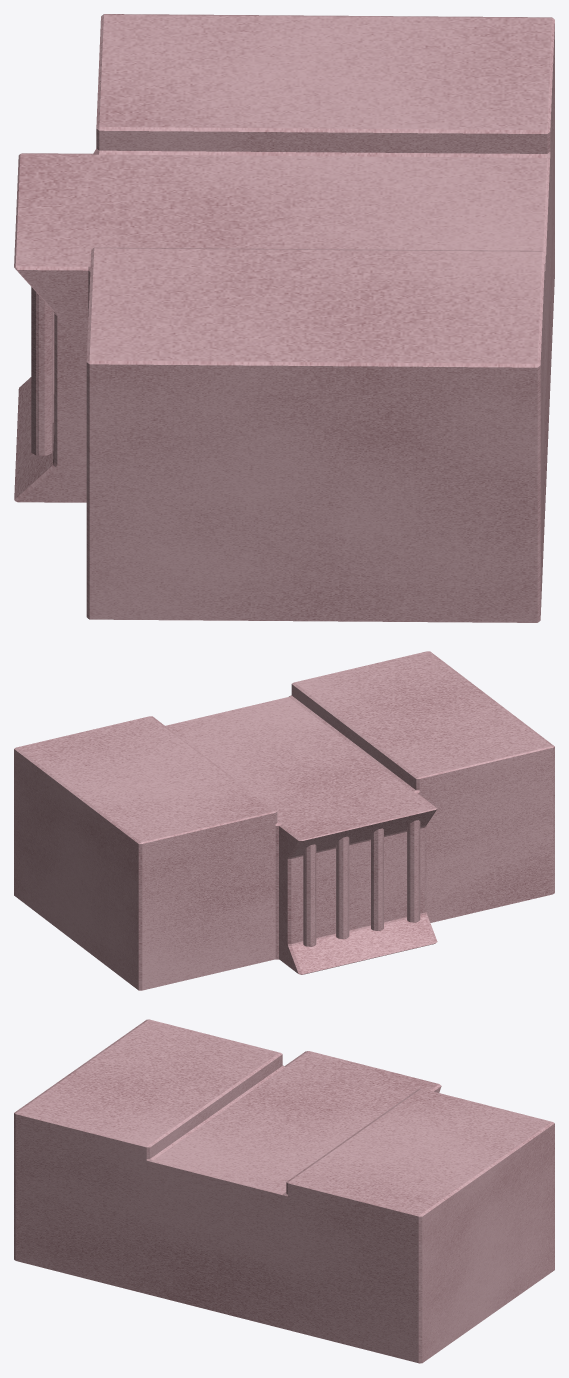
The model's file is BellasArtes.gltf.
3 renders of one model, top to bottom at view 1: azimuth 30°, elevation 25°; view 2: azimuth 150°, elevation 25°; view 3: azimuth 270°, elevation 25°, orthographic. The views are drawn at different scales.
Visible parts, largest first — view 1: BellasArtes; view 2: BellasArtes; view 3: BellasArtes.
Boxes of the visible parts, x1,y1,x2,y2 form: BellasArtes: (14, 14, 554, 622); BellasArtes: (14, 651, 554, 990); BellasArtes: (14, 1019, 554, 1363).
Size of the model in its own units: 1.53 by 0.5395 by 1.78.
Materials: 1 (1 with a texture image).
